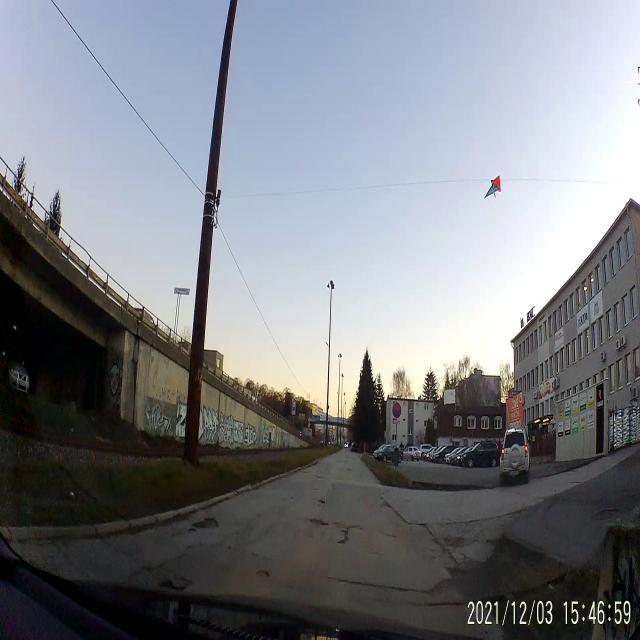Pothole: (188, 514, 221, 534), (337, 522, 354, 551), (306, 512, 328, 532), (314, 496, 328, 508)
